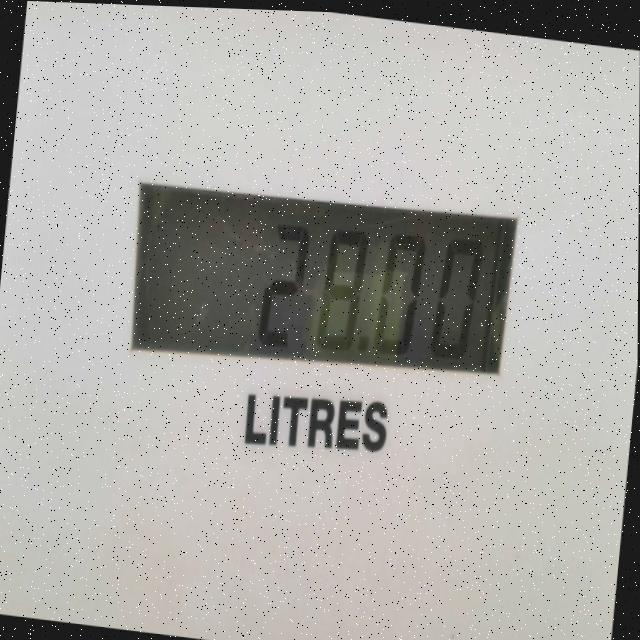.: (352, 322, 373, 359)
0: (421, 217, 488, 363), (368, 223, 429, 355)
2: (242, 213, 318, 356)
8: (309, 212, 377, 356)
